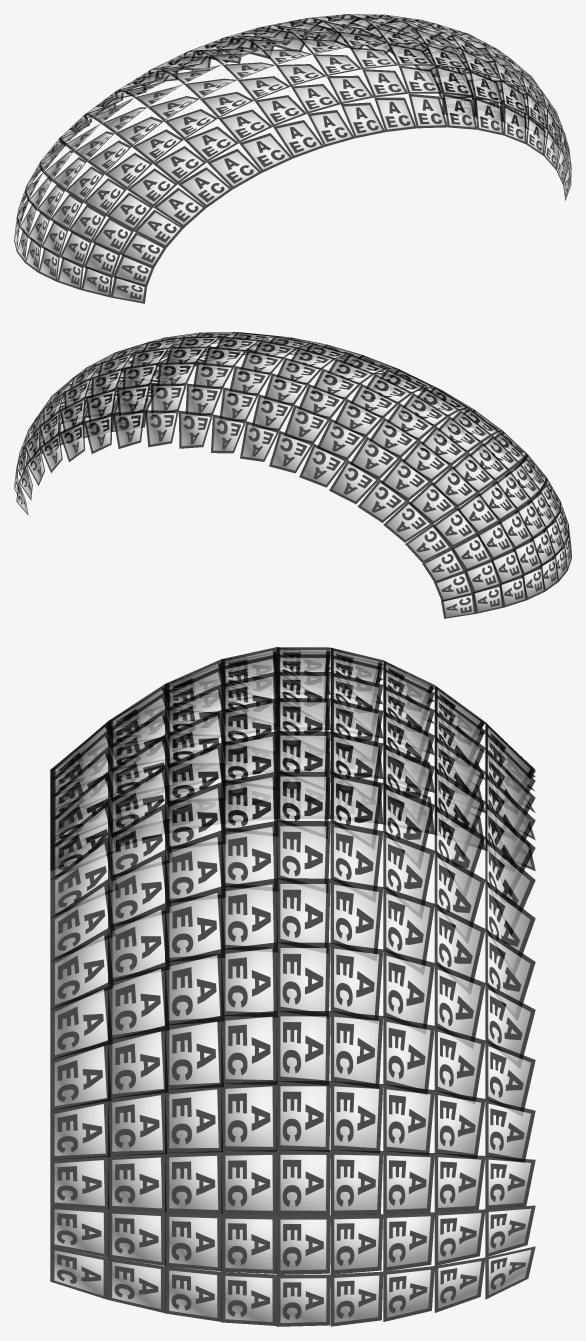
The model's file is screen005.glb.
3 views of the same model, one above another, from view 1: azimuth 30°, elevation 25°; view 2: azimuth 150°, elevation 25°; view 3: azimuth 270°, elevation 25° (orthographic). The views are drawn at different scales.
Visible parts, largest first — view 1: [0]; view 2: [0]; view 3: [0].
Part boxes in pixels (<box>): [0]: <box>14,14,571,303</box>; [0]: <box>14,332,571,618</box>; [0]: <box>50,647,535,1326</box>.
Bounding box in the file's own units: 4.77 × 1.51 × 1.93.
Materials: 1 (1 with a texture image).
